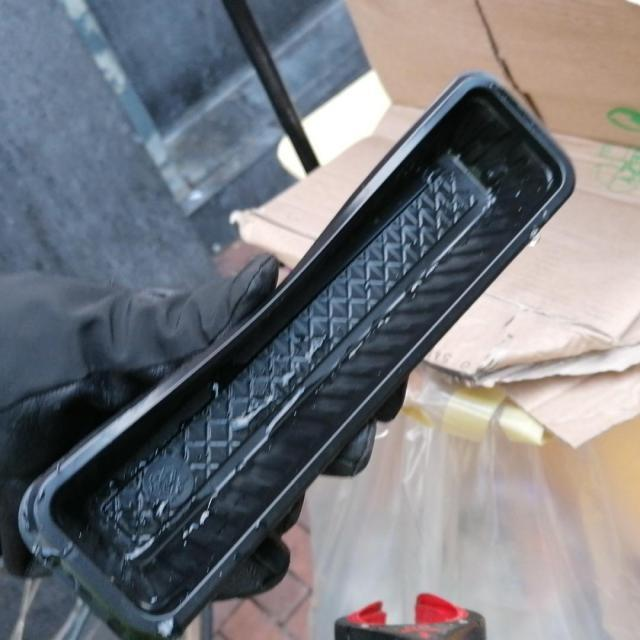Plastic: (7, 64, 580, 638)
